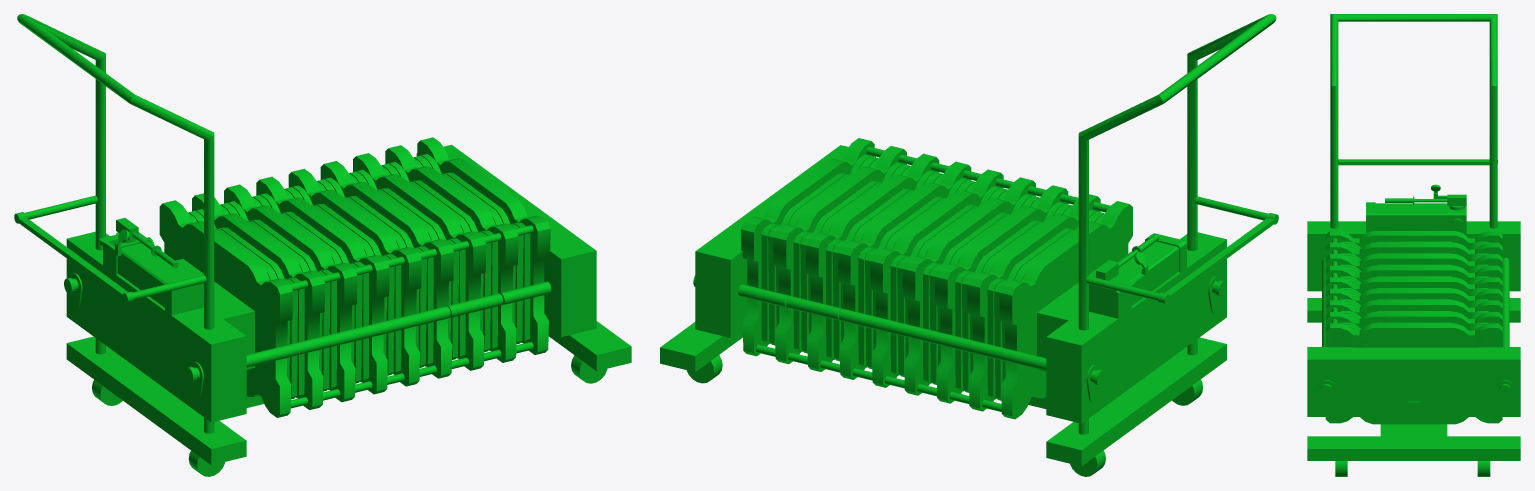
Rendered from Sarto_cart.FBX.
The picture shows the model from 3 angles, left to right: view 1: azimuth 30°, elevation 25°; view 2: azimuth 150°, elevation 25°; view 3: azimuth 270°, elevation 25°; orthographic projection. The views are drawn at different scales.
Parts seen in each view (by area): view 1: cart_holder; view 2: cart_holder; view 3: cart_holder.
Boxes of the visible parts, bbox=[...] form: cart_holder: bbox=[14, 14, 631, 476]; cart_holder: bbox=[660, 14, 1278, 476]; cart_holder: bbox=[1307, 14, 1520, 476].
Size of the model in its own units: 174 by 137 by 89.27.
